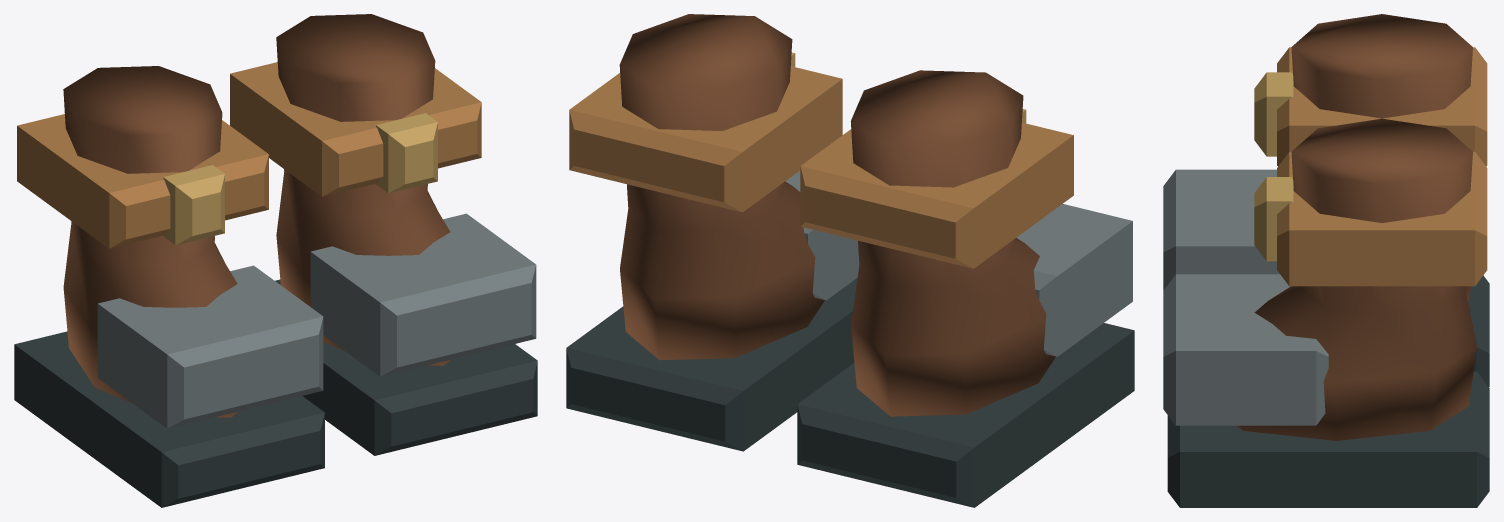
Rendered from traveler_boots.glb.
3 views of the same model, side by side, from view 1: azimuth 30°, elevation 25°; view 2: azimuth 150°, elevation 25°; view 3: azimuth 270°, elevation 25° (orthographic). The views are drawn at different scales.
Visible parts, largest first — view 1: leather_82, leather_87, iron_84, iron_89, darkIron_83, darkIron_88, leatherLight_85, leatherLight_90, gold_91, gold_86; view 2: leather_82, leather_87, darkIron_83, darkIron_88, leatherLight_85, leatherLight_90, iron_84, iron_89; view 3: leather_87, darkIron_88, iron_89, leatherLight_90, leather_82, iron_84, leatherLight_85, gold_86, gold_91, darkIron_83.
Part boxes in pixels (left/top/right/bottom): leather_82: left=63, top=66, right=237, bottom=417; leather_87: left=276, top=14, right=450, bottom=365; iron_84: left=97, top=265, right=323, bottom=428; iron_89: left=310, top=213, right=536, bottom=376; darkIron_83: left=14, top=331, right=324, bottom=507; darkIron_88: left=275, top=279, right=537, bottom=455; leatherLight_85: left=17, top=114, right=268, bottom=248; leatherLight_90: left=230, top=62, right=481, bottom=196; gold_91: left=376, top=113, right=437, bottom=193; gold_86: left=163, top=165, right=224, bottom=245; leather_82: left=850, top=70, right=1055, bottom=416; leather_87: left=619, top=14, right=824, bottom=360; darkIron_83: left=797, top=323, right=1134, bottom=507; darkIron_88: left=566, top=278, right=857, bottom=451; leatherLight_85: left=800, top=122, right=1073, bottom=268; leatherLight_90: left=569, top=66, right=842, bottom=212; iron_84: left=1016, top=204, right=1132, bottom=356; iron_89: left=785, top=170, right=859, bottom=300; leather_87: left=1236, top=118, right=1476, bottom=440; darkIron_88: left=1167, top=371, right=1489, bottom=507; iron_89: left=1163, top=274, right=1328, bottom=425; leatherLight_90: left=1277, top=151, right=1487, bottom=286; leather_82: left=1291, top=14, right=1472, bottom=301; iron_84: left=1163, top=169, right=1279, bottom=290; leatherLight_85: left=1277, top=47, right=1487, bottom=166; gold_86: left=1254, top=72, right=1293, bottom=156; gold_91: left=1254, top=177, right=1293, bottom=261; darkIron_83: left=1468, top=275, right=1489, bottom=386.
Size of the model in its own units: 0.53 by 0.4225 by 0.395.
